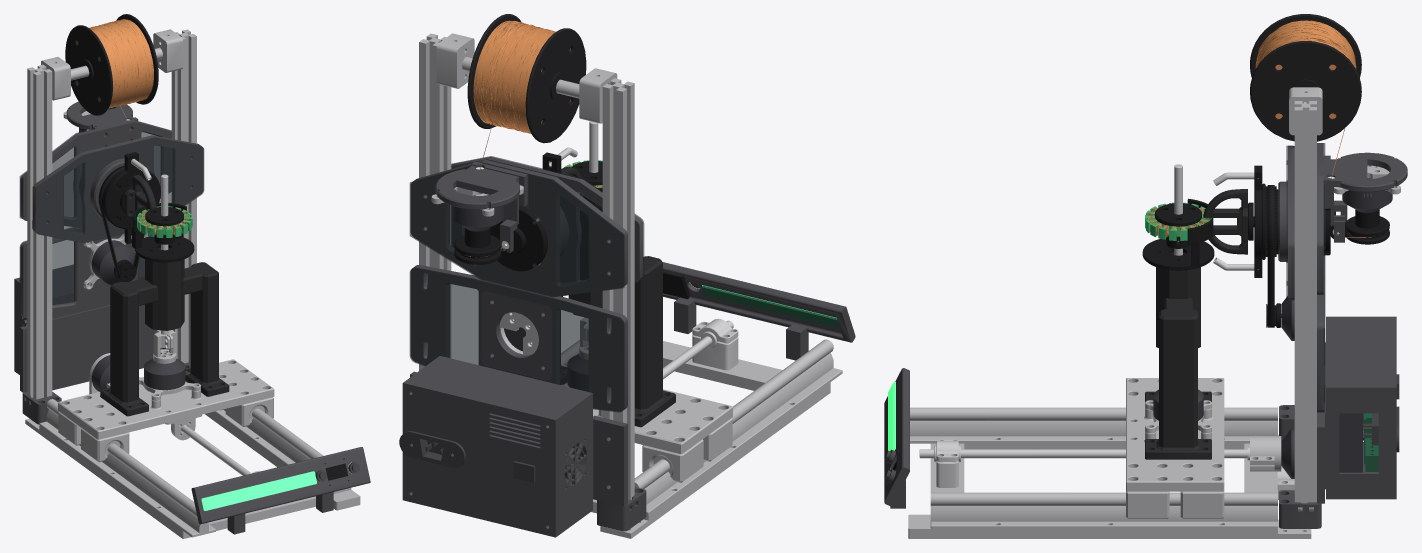
File: stator-winder.glb
The picture shows the model from 3 angles, left to right: view 1: azimuth 30°, elevation 25°; view 2: azimuth 150°, elevation 25°; view 3: azimuth 270°, elevation 25°; orthographic projection. The views are drawn at different scales.
Parts seen in each view (by area): view 1: bridge_plate, post_2020_1, 19_Motor_rod_aligner, cover_bridge, 08_Linear_carriage, ref_spool_din100, ref_spool_winding, spindle_100T, ref_psu_LRS100, led_diffuser, shroud, 07_GBM_4108_RCTIMER_MOTOR (+5 smaller); view 2: bridge_plate, post_2020_1, cover_bridge, 08_Linear_carriage, ref_spool_winding, ref_spool_din100, 19_Motor_rod_aligner, guide_stem, bearing_6810_1, ref_button_1, ref_psu_LRS100, ref_controller_70x50 (+2 smaller); view 3: post_2020_1, bridge_plate, 08_Linear_carriage, 19_Motor_rod_aligner, ref_spool_din100, bearing_6810_1, ref_psu_LRS100, shroud, ref_spool_winding, guide_stem, 23_Stator_Guide, spindle_100T (+6 smaller).
Boxes of the visible parts, x1,y1,x2,y2 form: bridge_plate: (14, 101, 370, 534); post_2020_1: (25, 29, 360, 538); 19_Motor_rod_aligner: (100, 248, 229, 416); cover_bridge: (19, 121, 204, 313); 08_Linear_carriage: (58, 330, 274, 462); ref_spool_din100: (65, 14, 158, 115); ref_spool_winding: (77, 19, 153, 119); spindle_100T: (101, 152, 160, 243); ref_psu_LRS100: (79, 127, 135, 391); led_diffuser: (201, 471, 316, 510); shroud: (132, 203, 194, 262); 07_GBM_4108_RCTIMER_MOTOR: (144, 358, 190, 390); bridge_plate: (402, 156, 855, 537); post_2020_1: (419, 33, 842, 538); cover_bridge: (409, 156, 644, 412); 08_Linear_carriage: (561, 317, 732, 482); ref_spool_winding: (468, 20, 570, 257); ref_spool_din100: (467, 14, 586, 143); 19_Motor_rod_aligner: (560, 232, 675, 427); guide_stem: (454, 205, 547, 271); bearing_6810_1: (663, 318, 738, 379); ref_button_1: (399, 281, 699, 485); ref_psu_LRS100: (451, 193, 568, 477); ref_controller_70x50: (702, 285, 839, 327); post_2020_1: (908, 87, 1400, 538); bridge_plate: (884, 143, 1407, 528); 08_Linear_carriage: (1126, 378, 1224, 518); 19_Motor_rod_aligner: (1145, 252, 1211, 459); ref_spool_din100: (1250, 14, 1361, 141); bearing_6810_1: (919, 229, 1339, 489); ref_psu_LRS100: (1281, 178, 1392, 478); shroud: (1142, 198, 1214, 270); ref_spool_winding: (1255, 20, 1380, 237); guide_stem: (1248, 202, 1389, 255); 23_Stator_Guide: (1203, 189, 1247, 254); spindle_100T: (1254, 165, 1278, 277).
Bounding box in the file's own units: 0.22 × 0.455 × 0.4676.
